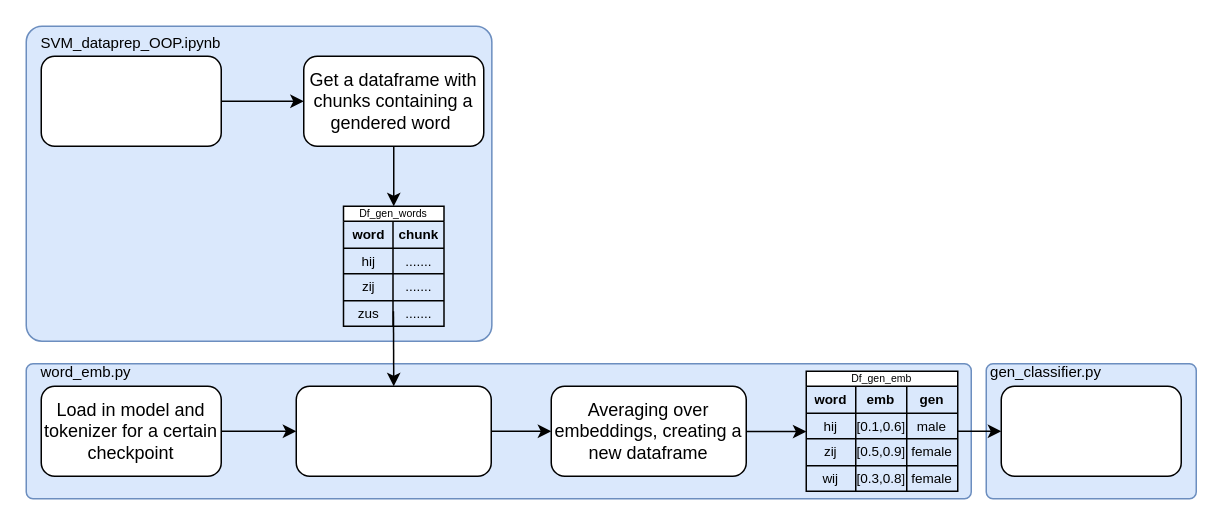
Some shapes in this 1223 by 525 pixel diagram are drawn without their labels. The shapes that lost their labels are listed below. From the top down, each one's centre as x and y in pixels, then its label:
(x=130, y=100): Load in tokenizer for a certain checkpoint
(x=393, y=430): Get embeddings for a certain word by extracting for every chunk in the dataframe
(x=1090, y=430): building a classifier
